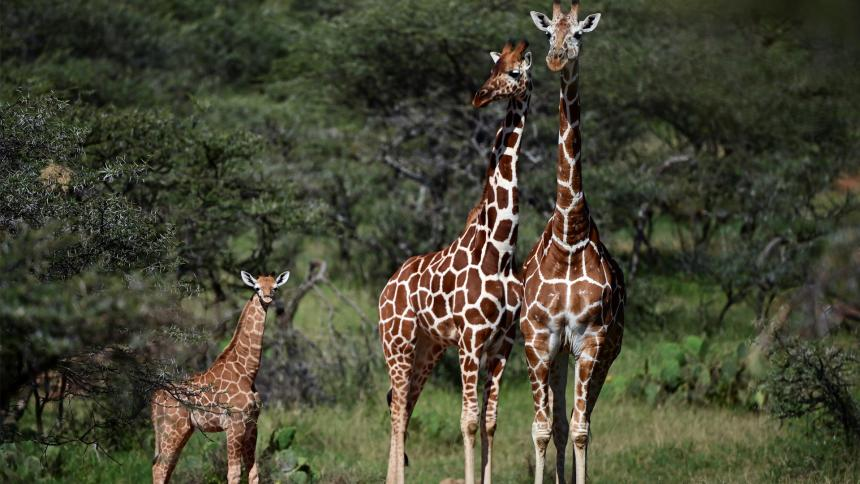Jirafa: (517, 1, 616, 107), (455, 22, 547, 135), (210, 239, 305, 334)
